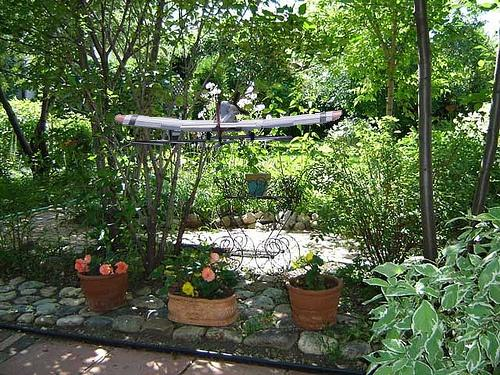tampered: (115, 92, 343, 150)
